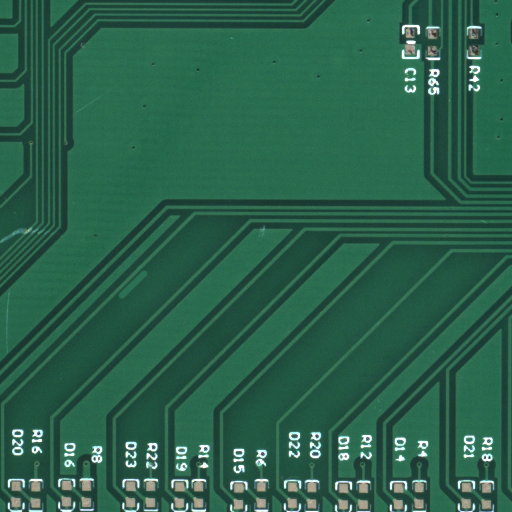Spurious_copper: (132, 283, 163, 312)
